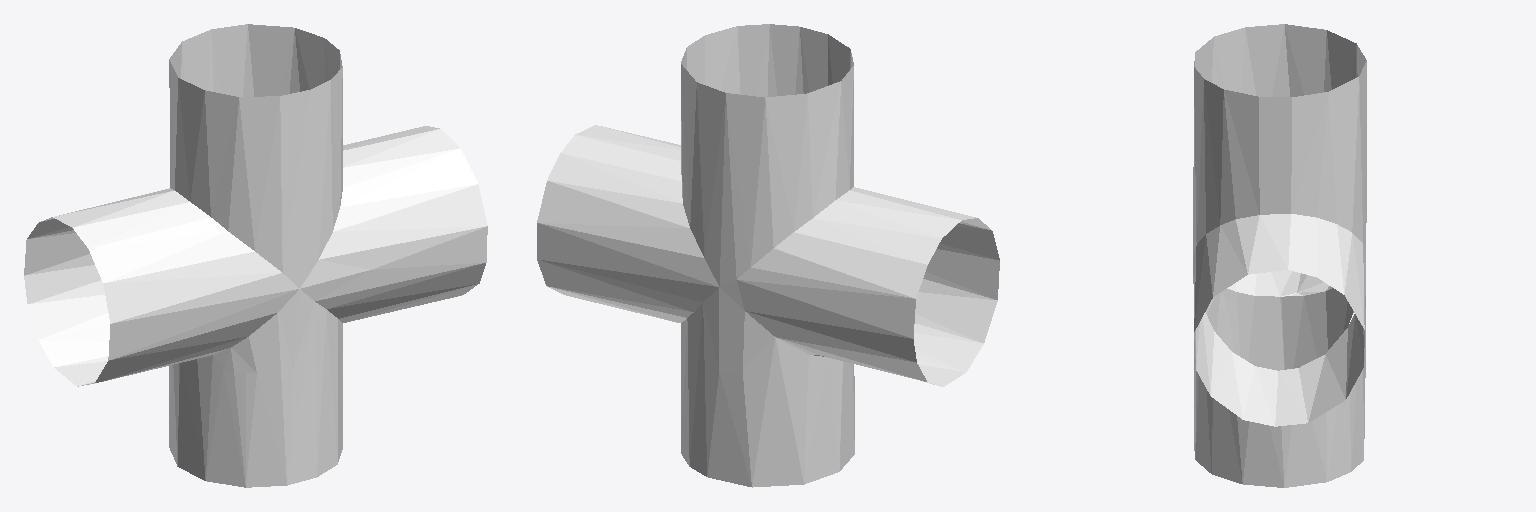
File: ChainCenter.obj
3 views of the same model, side by side, from view 1: azimuth 30°, elevation 25°; view 2: azimuth 150°, elevation 25°; view 3: azimuth 270°, elevation 25° (orthographic).
Visible parts, largest first — view 1: Chain; view 2: Chain; view 3: Chain.
Part boxes in pixels (x1,y1,x2,y2): Chain: (24, 24, 487, 487); Chain: (537, 24, 999, 487); Chain: (1193, 24, 1366, 487).
Size of the model in its own units: 4.59 by 4.54 by 1.83.